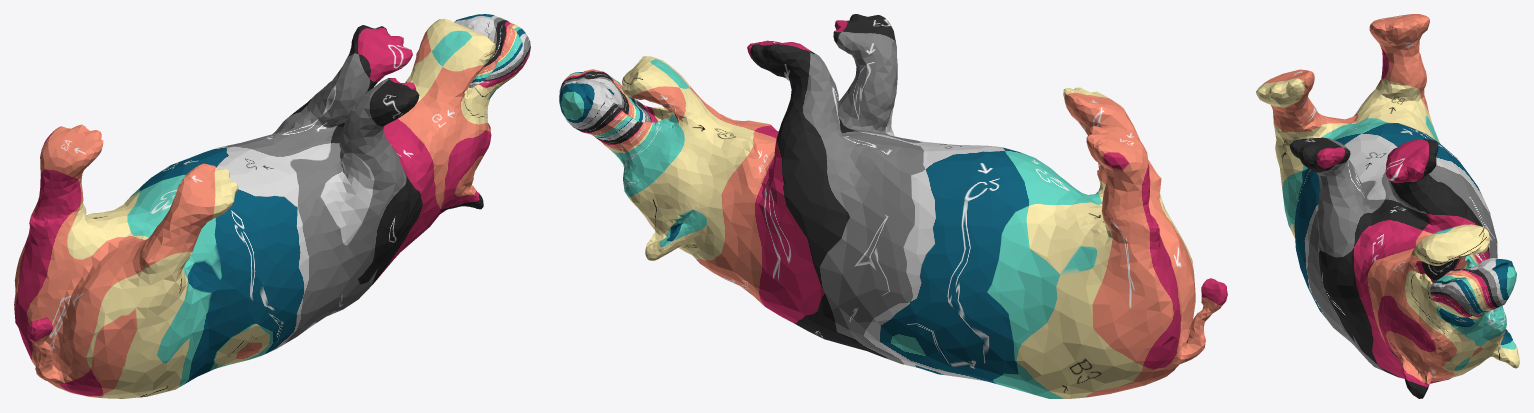
Rendered from fox_02-hippo_01.obj.
3 renders of one model, left to right at view 1: azimuth 30°, elevation 25°; view 2: azimuth 150°, elevation 25°; view 3: azimuth 270°, elevation 25°, orthographic. The views are drawn at different scales.
Visible parts, largest first — view 1: fox_02-hippo_01_export; view 2: fox_02-hippo_01_export; view 3: fox_02-hippo_01_export.
Part boxes in pixels (<box>): fox_02-hippo_01_export: <box>14,14,530,398</box>; fox_02-hippo_01_export: <box>559,14,1227,398</box>; fox_02-hippo_01_export: <box>1256,14,1519,398</box>.
Bounding box in the file's own units: 0.982 × 0.4752 × 0.402.
